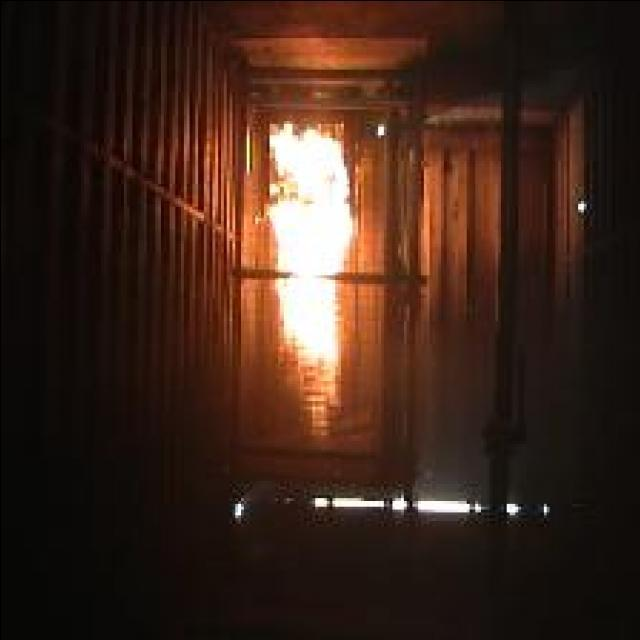Fire: (262, 123, 354, 434)
